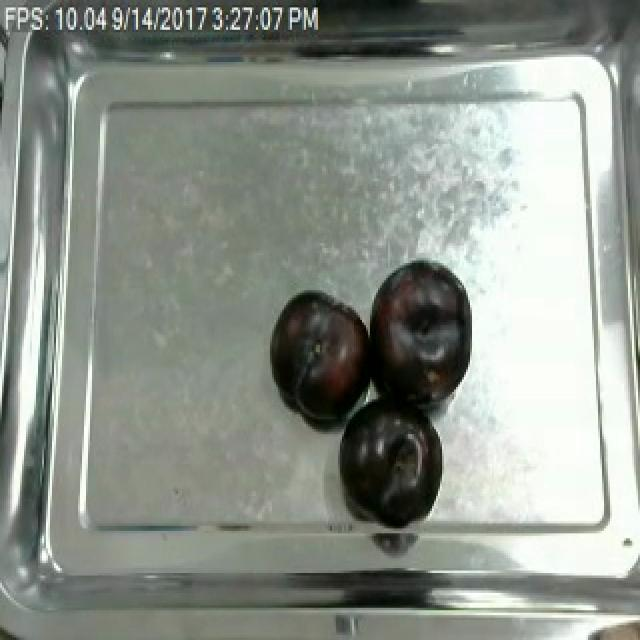Fruit: (364, 253, 476, 412), (264, 285, 372, 424), (336, 394, 440, 528), (576, 608, 640, 640)
